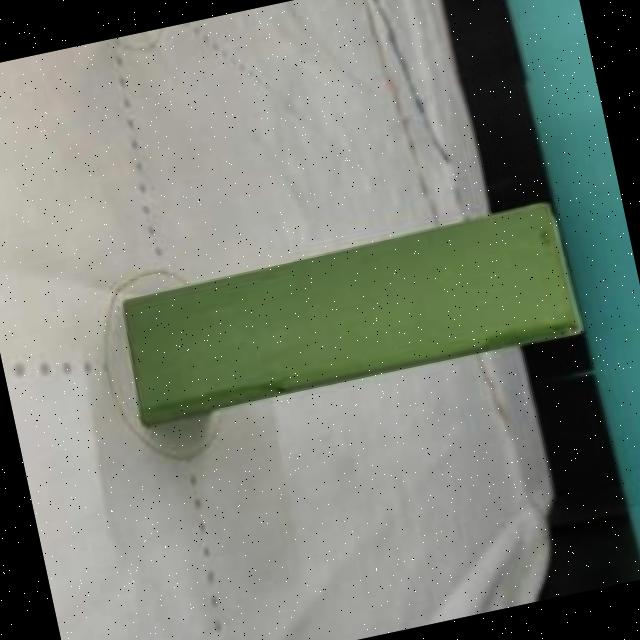greenbox: (118, 196, 593, 426)
